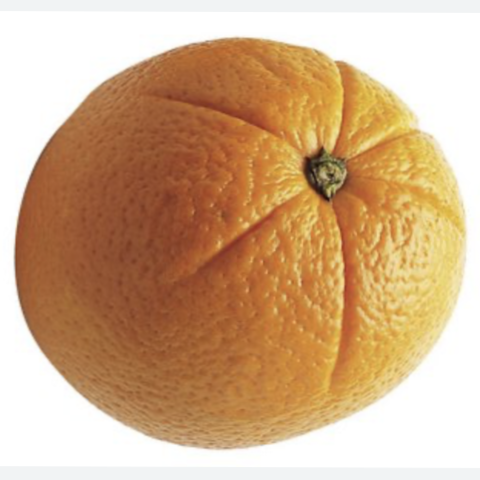orange: (7, 0, 471, 465)
